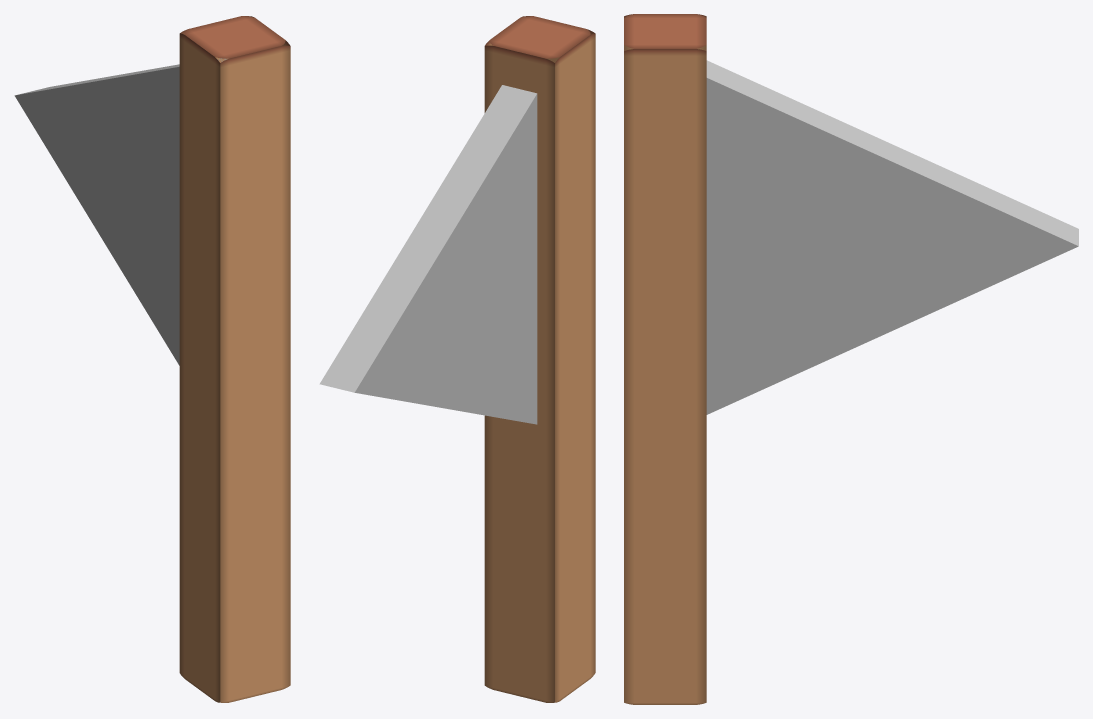
File: rallyFlag.dae
3 views of the same model, side by side, from view 1: azimuth 30°, elevation 25°; view 2: azimuth 150°, elevation 25°; view 3: azimuth 270°, elevation 25° (orthographic).
Visible parts, largest first — view 1: pole, flag; view 2: pole, flag; view 3: flag, pole.
Part boxes in pixels (x1=…): pole: x1=179, y1=16, x2=290, y2=702; flag: x1=14, y1=58, x2=226, y2=365; pole: x1=484, y1=16, x2=595, y2=702; flag: x1=319, y1=85, x2=537, y2=424; flag: x1=706, y1=60, x2=1078, y2=414; pole: x1=624, y1=14, x2=706, y2=704.
Bounding box in the file's own units: 0.25 × 2.19 × 1.38.
